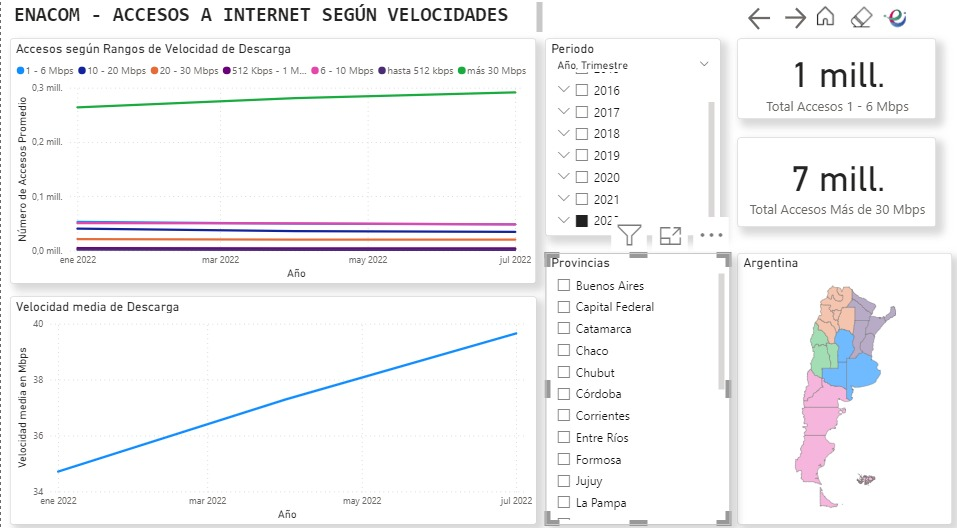

This screenshot's page, from the dashboard's own definition file:
{"tool":"powerbi","page":{"name":"AccesosVelocidad","canvas":[1280,720],"ordinal":2},"visuals":[{"type":"textbox","box":[12.1,0,714.7,54.5],"z":0},{"type":"lineChart","title":"Accesos según Rangos de Velocidad de Descarga","fields":{"Y":["Avg(enacom acceso_rango_velocidad_provincia.1_Mbps_6_Mbps)","Avg(enacom acceso_rango_velocidad_provincia.10_Mbps20_Mbps)","Avg(enacom acceso_rango_velocidad_provincia.20_Mbps_30_Mbps)","Avg(enacom acceso_rango_velocidad_provincia.512_Kbps_1_Mbps)","Avg(enacom acceso_rango_velocidad_provincia.6_Mbps_10_Mbps)","Avg(enacom acceso_rango_velocidad_provincia.hasta_512_kbps)","Avg(enacom acceso_rango_velocidad_provincia.Mas_30_Mbps)"],"Category":["Calendario.Date.Variación.Jerarquía de fechas.Año","Calendario.Date.Variación.Jerarquía de fechas.Trimestre"]},"box":[11.3,54.8,701.1,326.9],"z":1000},{"type":"lineChart","title":"Velocidad media de Descarga","fields":{"Category":["Calendario.Date.Variación.Jerarquía de fechas.Año","Calendario.Date.Variación.Jerarquía de fechas.Trimestre"],"Y":["Avg(enacom velocidad_media_provincia.Mbps_media)"]},"box":[12,398,702,304],"z":2000},{"type":"slicer","title":"Provincias","fields":{"Values":["enacom provincias.nombre"]},"box":[726,340,246,362],"z":3000},{"type":"slicer","title":"Periodo","fields":{"Values":["Calendario.Year","Calendario.Quarter"]},"box":[725.3,54.5,233.2,263.5],"z":4000},{"type":"card","fields":{"Values":["enacom acceso_rango_velocidad_provincia.TotalAccesos1_6"]},"box":[982.7,54.5,265,107.5],"z":5000},{"type":"card","fields":{"Values":["enacom acceso_rango_velocidad_provincia.TotalAccesos30"]},"box":[982.7,186.2,265,119.6],"z":6000},{"type":"shapeMap","title":"Argentina","fields":{"Category":["enacom provincias.nombre"]},"box":[982,340,286,362],"z":7000},{"type":"actionButton","box":[991.6,8.8,40.9,39.4],"z":8000},{"type":"actionButton","box":[1080,6.8,47.4,39.5],"z":9000},{"type":"actionButton","box":[1127.4,6.8,44.2,39.5],"z":10000},{"type":"actionButton","box":[1170.9,0,48.1,53.9],"z":11000},{"type":"actionButton","box":[1039.8,8.8,40.9,38],"z":12000}]}

Visuals, with their boxes in screenshot pixels (x1, y1, x2, y2), scaled from the page's 1280x720 canvas onto the 957x528 screenshot:
textbox: BBox(9, 0, 543, 40)
"Accesos según Rangos de Velocidad de Descarga" lineChart: BBox(8, 40, 533, 280)
"Velocidad media de Descarga" lineChart: BBox(9, 292, 534, 515)
"Provincias" slicer: BBox(543, 249, 727, 515)
"Periodo" slicer: BBox(542, 40, 717, 233)
card - enacom acceso_rango_velocidad_provincia.TotalAccesos1_6: BBox(735, 40, 933, 119)
card - enacom acceso_rango_velocidad_provincia.TotalAccesos30: BBox(735, 137, 933, 224)
"Argentina" shapeMap: BBox(734, 249, 948, 515)
actionButton: BBox(741, 6, 772, 35)
actionButton: BBox(807, 5, 843, 34)
actionButton: BBox(843, 5, 876, 34)
actionButton: BBox(875, 0, 911, 40)
actionButton: BBox(777, 6, 808, 34)
